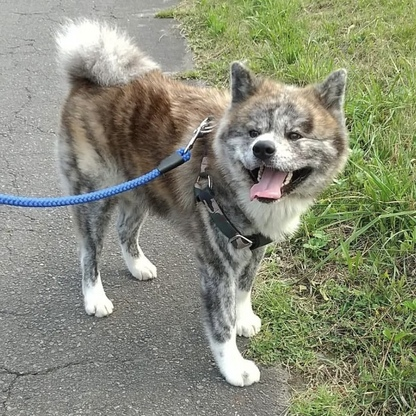akita: (48, 13, 356, 393)
